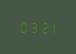one: (45, 20, 53, 34)
three: (27, 19, 35, 33)
two: (36, 19, 44, 34)
zero: (18, 19, 26, 33)
